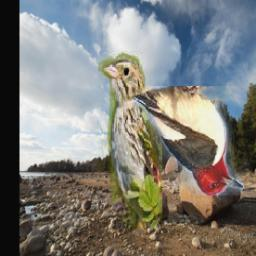Sparrow: (99, 50, 163, 229)
Woodpecker: (134, 87, 243, 197)
